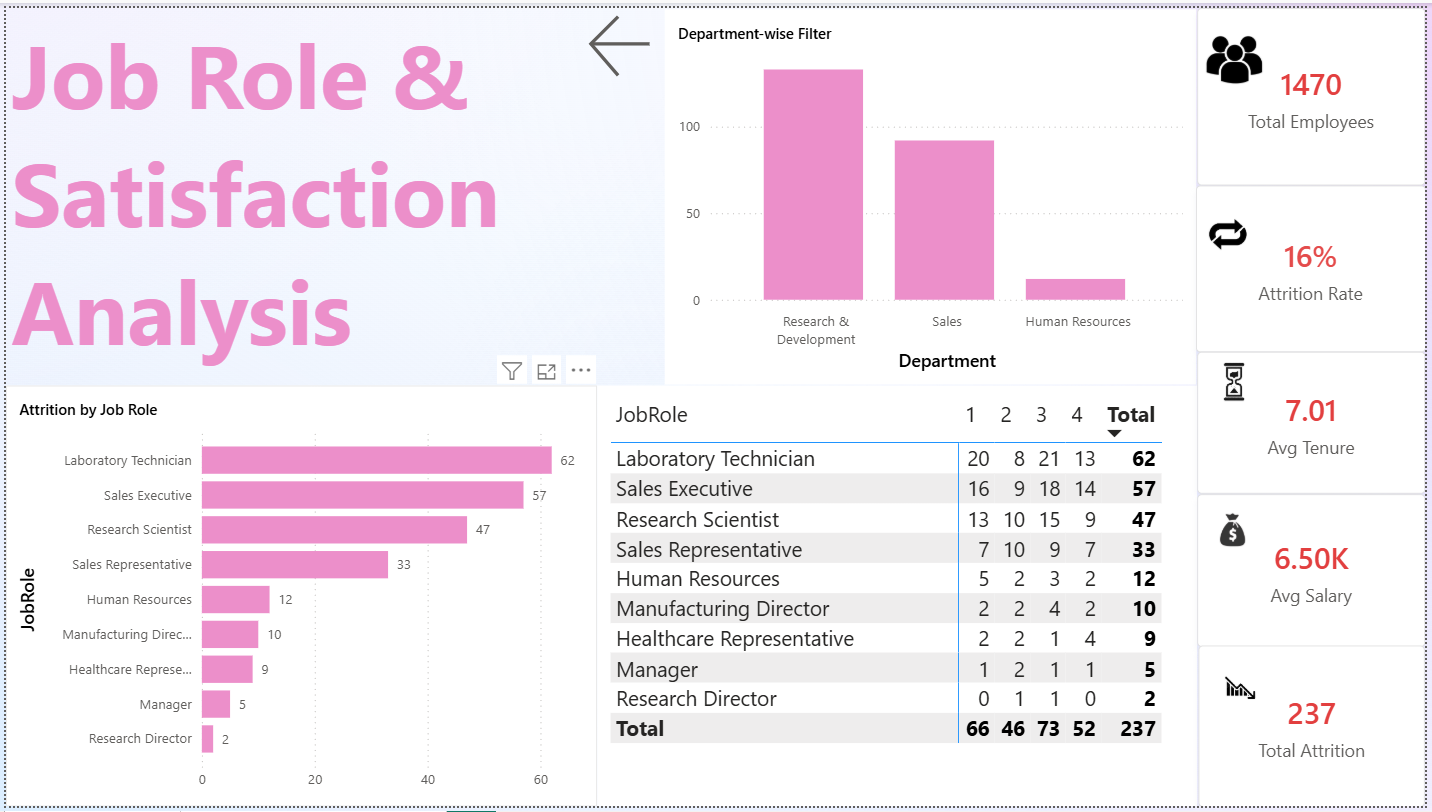

Layout of this report page (visuals, bound fields, positions):
{"tool":"powerbi","page":{"name":"Job Role & Satisfaction Analysis","canvas":[1280,720],"ordinal":1},"visuals":[{"type":"pivotTable","title":"Matrix Table","fields":{"Rows":["HR_Analytics.JobRole"],"Columns":["HR_Analytics.JobSatisfaction"],"Values":["Sum(HR_Analytics.Attritions Status)"]},"box":[533.2,339.9,540.5,379.1],"z":0},{"type":"clusteredBarChart","title":"Attrition by Job Role","fields":{"Y":["Sum(HR_Analytics.Attritions Status)"],"Category":["HR_Analytics.JobRole"]},"box":[0,339.9,533.2,380.3],"z":1000},{"type":"clusteredColumnChart","title":"Department-wise Filter","fields":{"Category":["HR_Analytics.Department"],"Y":["Sum(HR_Analytics.Attritions Status)"]},"box":[594.3,1.2,479.4,338.7],"z":2000},{"type":"textbox","box":[0,0,550.2,338.5],"z":3000},{"type":"actionButton","box":[519.7,0,74.6,68.5],"z":4000},{"type":"group","id":"g1","title":"Group 1","box":[1074.5,0,205.5,160],"z":5000},{"type":"card","fields":{"Values":["CountNonNull(HR_Analytics.EmpID)"]},"box":[1074.5,0,205.5,160],"z":5000,"group":"g1"},{"type":"card","fields":{"Values":["Sum(HR_Analytics.Attritions Status)"]},"box":[1075,574.4,204.3,145.2],"z":5000,"group":"g5"},{"type":"group","id":"g2","title":"Group 2","box":[1073.5,160,206.9,150.4],"z":6000},{"type":"card","fields":{"Values":["HR_Analytics.attrition rate"]},"box":[1073.5,160,206.9,150.4],"z":6000,"group":"g2"},{"type":"group","id":"g3","title":"Group 3","box":[1074.1,305,205.5,132.9],"z":7000},{"type":"card","fields":{"Values":["Avg(HR_Analytics.YearsAtCompany)"]},"box":[1074.1,309.9,205.5,128],"z":7000,"group":"g6"},{"type":"group","id":"g4","title":"Group 5","box":[1070.8,438.2,209.2,137.8],"z":8000},{"type":"card","fields":{"Values":["Avg(HR_Analytics.MonthlyIncome)"]},"box":[1074.2,438.2,205.8,137.8],"z":8000,"group":"g4"},{"type":"group","id":"g5","title":"Group 6","box":[1075,574.4,204.3,145.2],"z":9000},{"type":"image","box":[1077,13.3,62.8,66.7],"z":9001,"group":"g1"},{"type":"image","box":[1076.7,577.1,72.6,66.5],"z":9001,"group":"g5"},{"type":"image","box":[1076.5,168.6,66.5,59.1],"z":9003,"group":"g2"},{"type":"image","box":[1080.3,305,55.4,62.8],"z":9005,"group":"g6"},{"type":"group","id":"g6","title":"Group 4","box":[1074.1,305,205.5,132.9],"z":9007,"group":"g3"},{"type":"image","box":[1070.8,439.3,69.8,63],"z":9007,"group":"g4"}]}

Visuals, with their boxes in screenshot pixels (x1, y1, x2, y2), scaled from the page's 1280x720 canvas onto the 1432x812 screenshot:
"Matrix Table" pivotTable: bbox=[597, 383, 1201, 811]
"Attrition by Job Role" clusteredBarChart: bbox=[0, 383, 597, 811]
"Department-wise Filter" clusteredColumnChart: bbox=[665, 1, 1201, 383]
textbox: bbox=[0, 0, 616, 382]
actionButton: bbox=[581, 0, 665, 77]
"Group 1" group: bbox=[1202, 0, 1431, 180]
card - CountNonNull(HR_Analytics.EmpID): bbox=[1202, 0, 1431, 180]
card - Sum(HR_Analytics.Attritions Status): bbox=[1203, 648, 1431, 811]
"Group 2" group: bbox=[1201, 180, 1431, 350]
card - HR_Analytics.attrition rate: bbox=[1201, 180, 1431, 350]
"Group 3" group: bbox=[1202, 344, 1431, 494]
card - Avg(HR_Analytics.YearsAtCompany): bbox=[1202, 349, 1431, 494]
"Group 5" group: bbox=[1198, 494, 1431, 650]
card - Avg(HR_Analytics.MonthlyIncome): bbox=[1202, 494, 1431, 650]
"Group 6" group: bbox=[1203, 648, 1431, 811]
image: bbox=[1205, 15, 1275, 90]
image: bbox=[1205, 651, 1286, 726]
image: bbox=[1204, 190, 1279, 257]
image: bbox=[1209, 344, 1271, 415]
"Group 4" group: bbox=[1202, 344, 1431, 494]
image: bbox=[1198, 495, 1276, 566]
